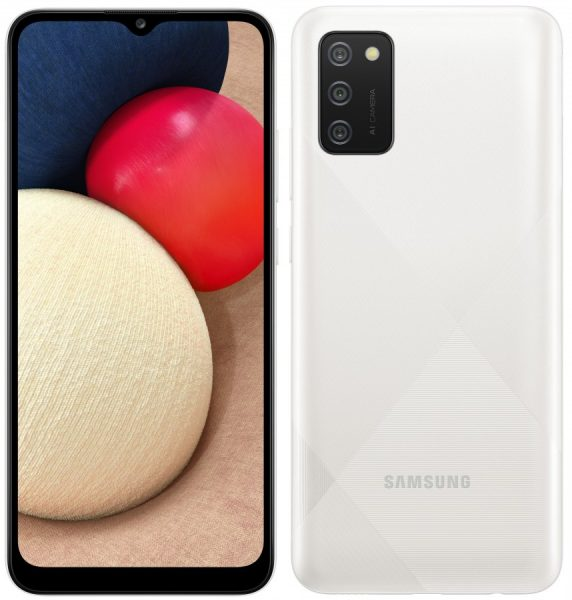phone: (285, 3, 567, 598), (4, 6, 277, 597)
